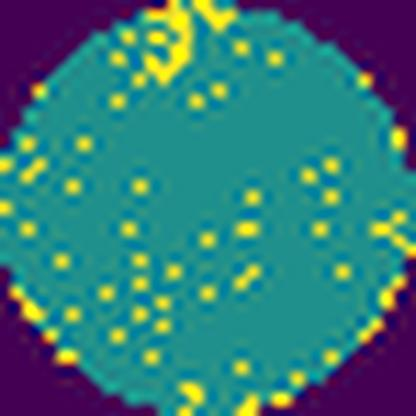Loc: (139, 0, 195, 85)
